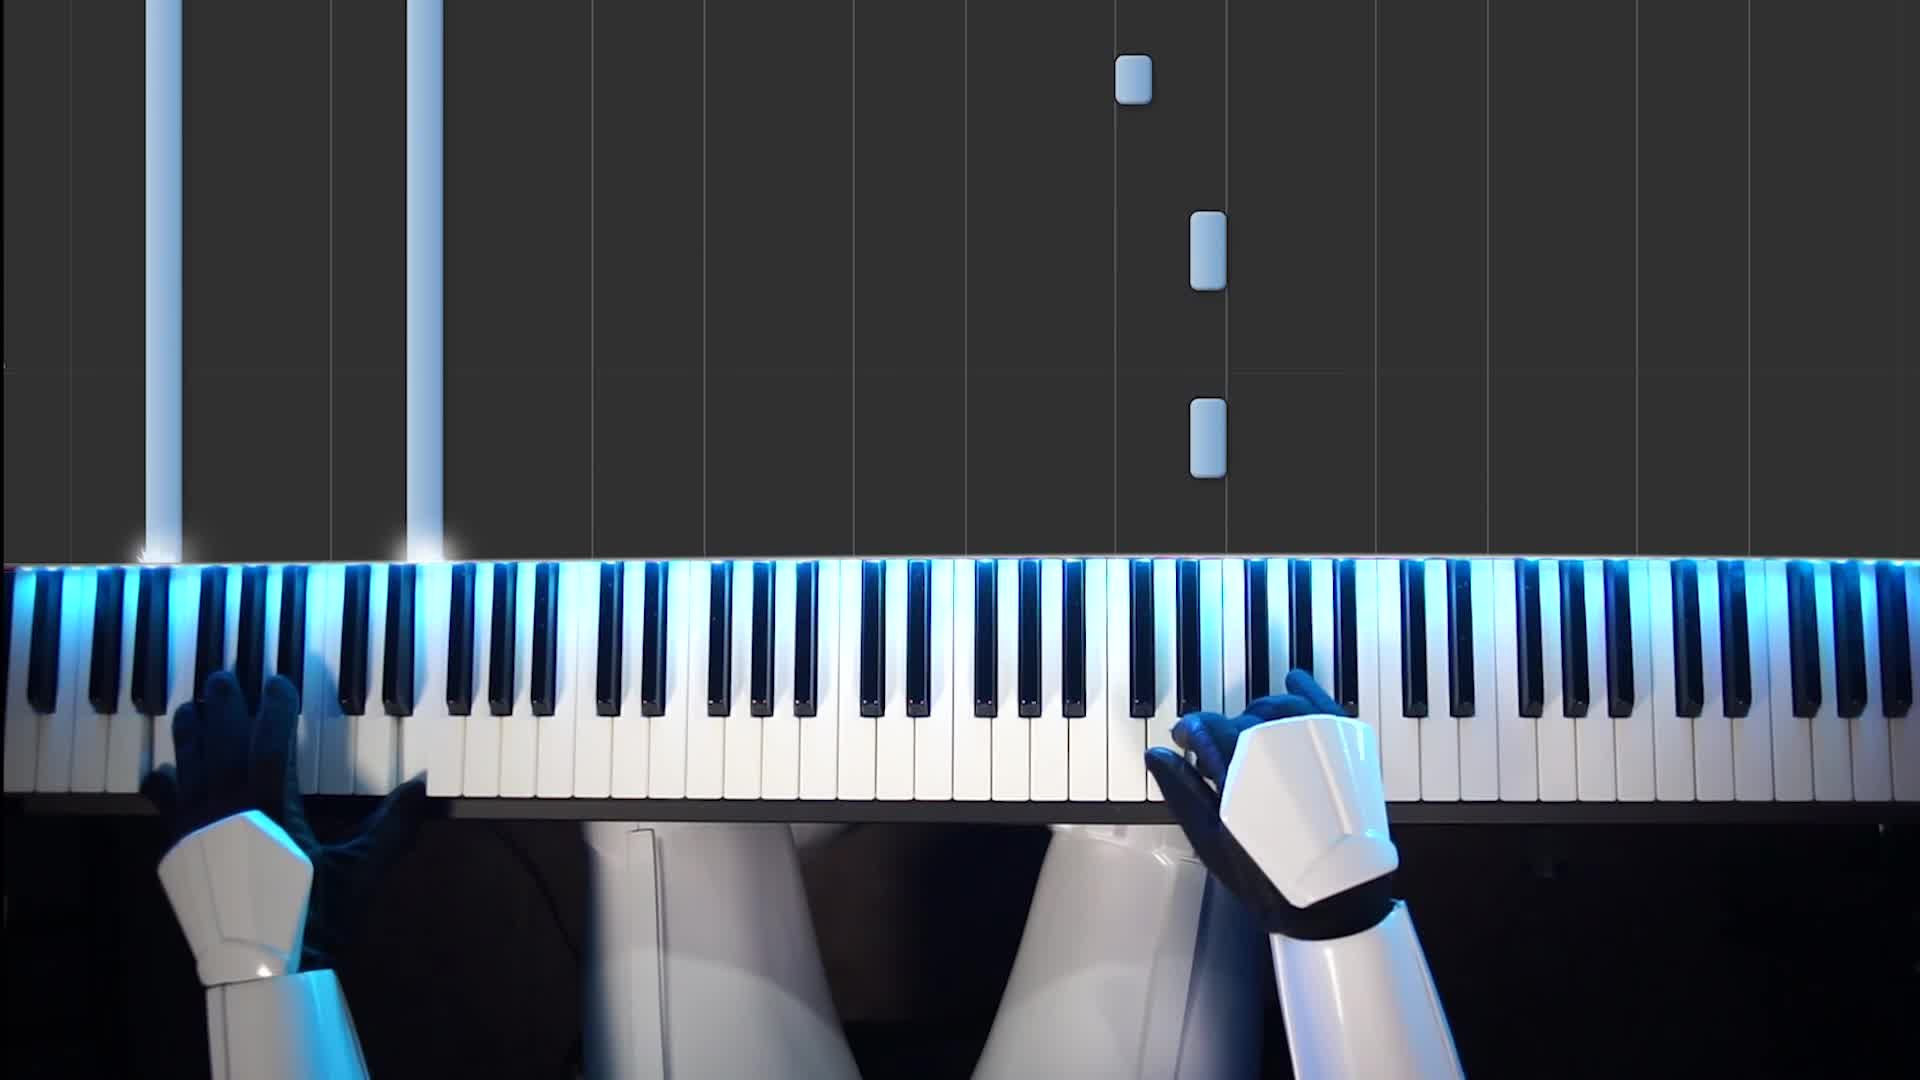left: (138, 676, 421, 934)
right: (1149, 669, 1395, 907)
